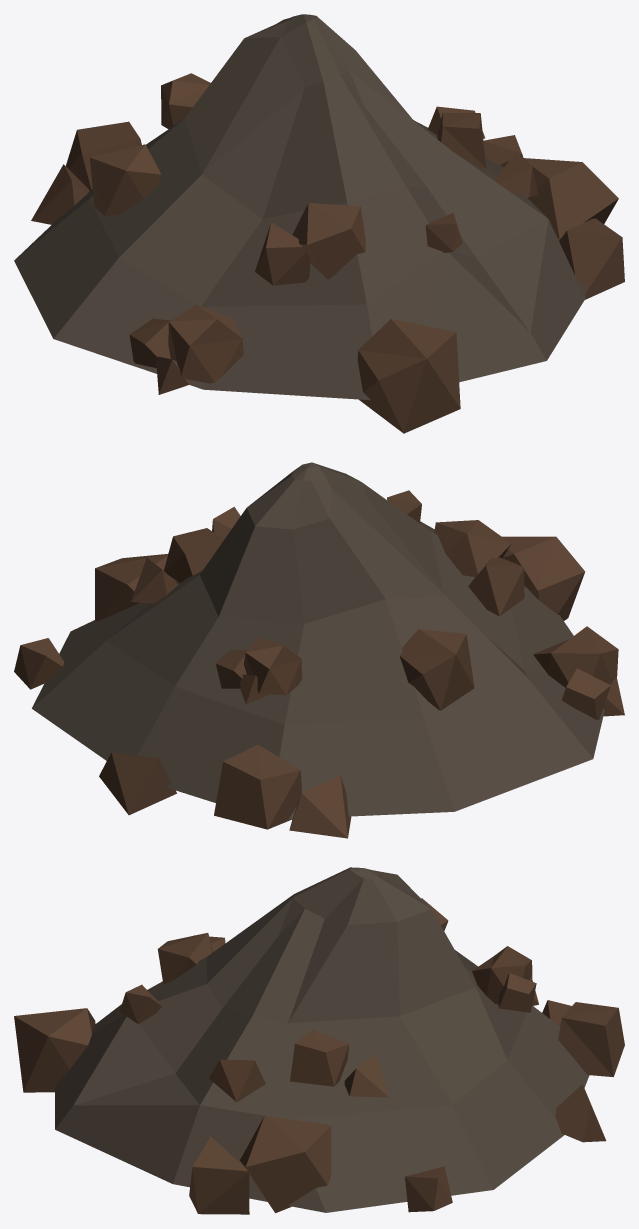
File: kingdom_SM_Prop_Ore_Iron_01.gltf
3 renders of one model, top to bottom at view 1: azimuth 30°, elevation 25°; view 2: azimuth 150°, elevation 25°; view 3: azimuth 270°, elevation 25°, orthographic. The views are drawn at different scales.
Visible parts, largest first — view 1: SM_Prop_Ore_Iron_01; view 2: SM_Prop_Ore_Iron_01; view 3: SM_Prop_Ore_Iron_01.
Part boxes in pixels (box(x1,y1,x2,y2)): SM_Prop_Ore_Iron_01: box(14, 14, 624, 433); SM_Prop_Ore_Iron_01: box(14, 462, 624, 838); SM_Prop_Ore_Iron_01: box(14, 867, 624, 1214).
Size of the model in its own units: 0.193 by 0.0935 by 0.2069.
Materials: 1 (1 with a texture image).
